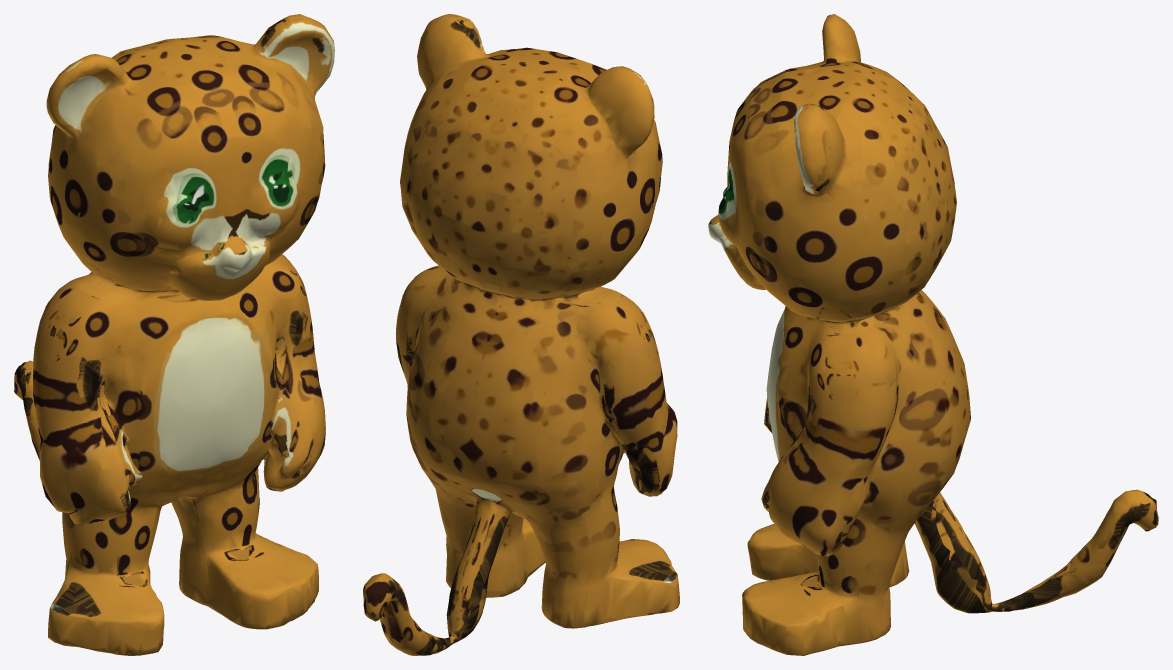
The model's file is leopard.glb.
The picture shows the model from 3 angles, left to right: view 1: azimuth 30°, elevation 25°; view 2: azimuth 150°, elevation 25°; view 3: azimuth 270°, elevation 25°; orthographic projection. The views are drawn at different scales.
Visible parts, largest first — view 1: leopard_baked; view 2: leopard_baked; view 3: leopard_baked.
Boxes of the visible parts, x1,y1,x2,y2 form: leopard_baked: [14, 14, 334, 655]; leopard_baked: [363, 14, 679, 655]; leopard_baked: [708, 14, 1158, 655].
Size of the model in its own units: 0.6901 by 1.35 by 1.01.
Materials: 1 (1 with a texture image).
